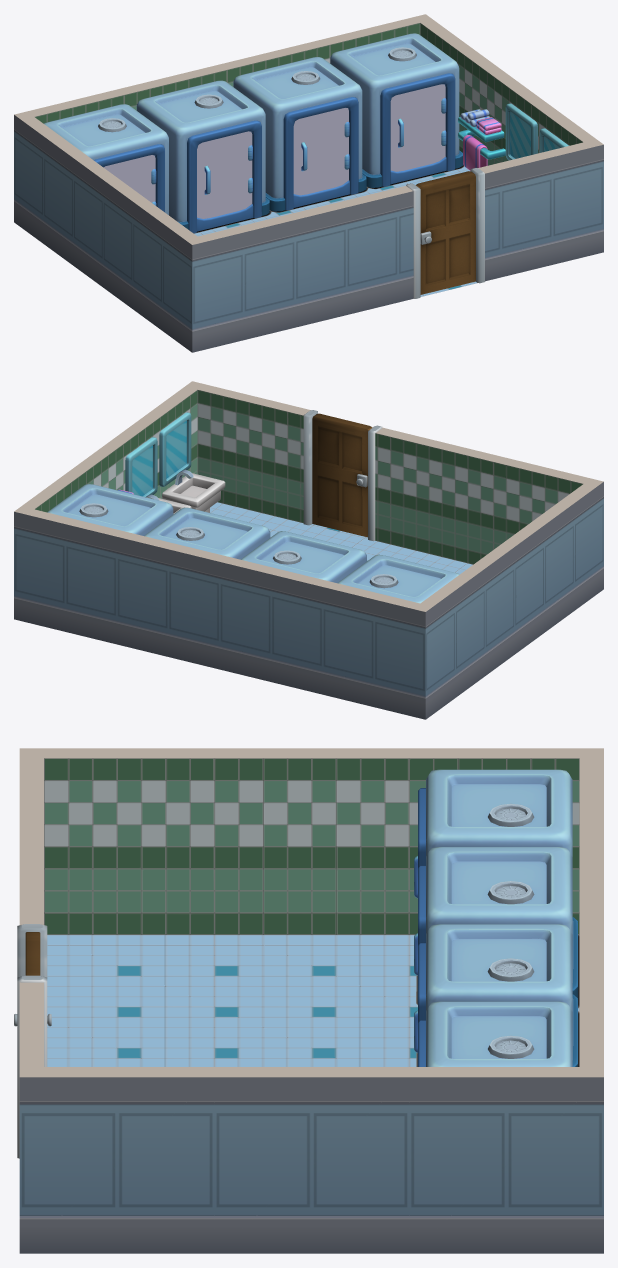
Rendered from Toilet_02.FBX.
The picture shows the model from 3 angles, top to bottom: view 1: azimuth 30°, elevation 25°; view 2: azimuth 150°, elevation 25°; view 3: azimuth 270°, elevation 25°; orthographic projection. The views are drawn at different scales.
Visible parts, largest first — view 1: School_Well011, School_Well009, School_Well010, Toilet_Item_Showers003, Toilet_Item_Showers002, Toilet_Item_Showers001, School_Well013, School_Well014, School_Well012, StaffLounge_Item_Door_02, Toilet_Item_Showers, Glass_Item_Showers003 (+27 smaller); view 2: School_Well001, School_Well, School_Well003, School_Well002, Toilet_Wall_011, Toilet_Wall_010, School_Well013, School_Well014, School_Well012, StaffLounge_Item_Door_02, Toilet_Wall_012, Toilet_Item_Showers002 (+26 smaller); view 3: School_Well004, School_Well006, Toilet_Wall_017, School_Well005, Toilet_Wall_014, Toilet_Floor_009, Toilet_Item_Showers, Toilet_Item_Showers001, Toilet_Floor_013, Toilet_Item_Showers002, Toilet_Floor_006, Toilet_Floor_010 (+17 smaller).
Boxes of the visible parts, box(x1,y1,x2,y2) form: School_Well011: box(192, 220, 295, 352); School_Well009: box(501, 144, 603, 277); School_Well010: box(295, 195, 397, 327); Toilet_Item_Showers003: box(330, 33, 463, 187); Toilet_Item_Showers002: box(233, 57, 366, 211); Toilet_Item_Showers001: box(136, 80, 269, 233); School_Well013: box(133, 202, 192, 352); School_Well014: box(14, 115, 73, 265); School_Well012: box(73, 158, 132, 308); StaffLounge_Item_Door_02: box(416, 171, 475, 294); Toilet_Item_Showers: box(44, 104, 168, 214); Glass_Item_Showers003: box(390, 84, 446, 171); School_Well001: box(322, 587, 425, 719); School_Well: box(220, 562, 322, 694); School_Well003: box(14, 511, 116, 644); School_Well002: box(117, 537, 219, 669); Toilet_Wall_011: box(390, 437, 493, 564); Toilet_Wall_010: box(197, 390, 287, 519); School_Well013: box(544, 482, 603, 632); School_Well014: box(425, 569, 484, 719); School_Well012: box(485, 525, 544, 675); StaffLounge_Item_Door_02: box(312, 413, 372, 537); Toilet_Wall_012: box(493, 462, 582, 549); Toilet_Item_Showers002: box(144, 507, 270, 559); School_Well004: box(214, 1077, 409, 1253); School_Well006: box(19, 1077, 214, 1253); Toilet_Wall_017: box(214, 758, 409, 934); School_Well005: box(409, 1077, 603, 1253); Toilet_Wall_014: box(44, 758, 214, 934); Toilet_Floor_009: box(214, 935, 409, 1006); Toilet_Item_Showers: box(418, 769, 577, 997); Toilet_Item_Showers001: box(418, 847, 577, 1066); Toilet_Floor_013: box(47, 935, 214, 1006); Toilet_Item_Showers002: box(418, 924, 572, 1022); Toilet_Floor_006: box(214, 1007, 409, 1066); Toilet_Floor_010: box(47, 1007, 214, 1066).
Bounding box in the file's own units: 8 × 2.02 × 6.06.
